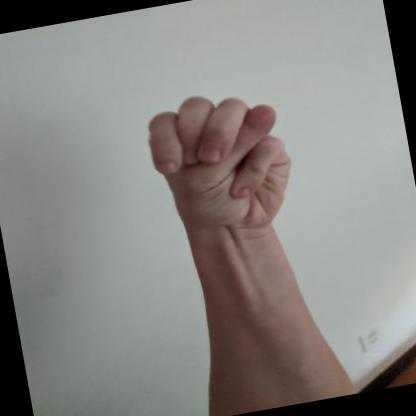M: (147, 95, 291, 244)
